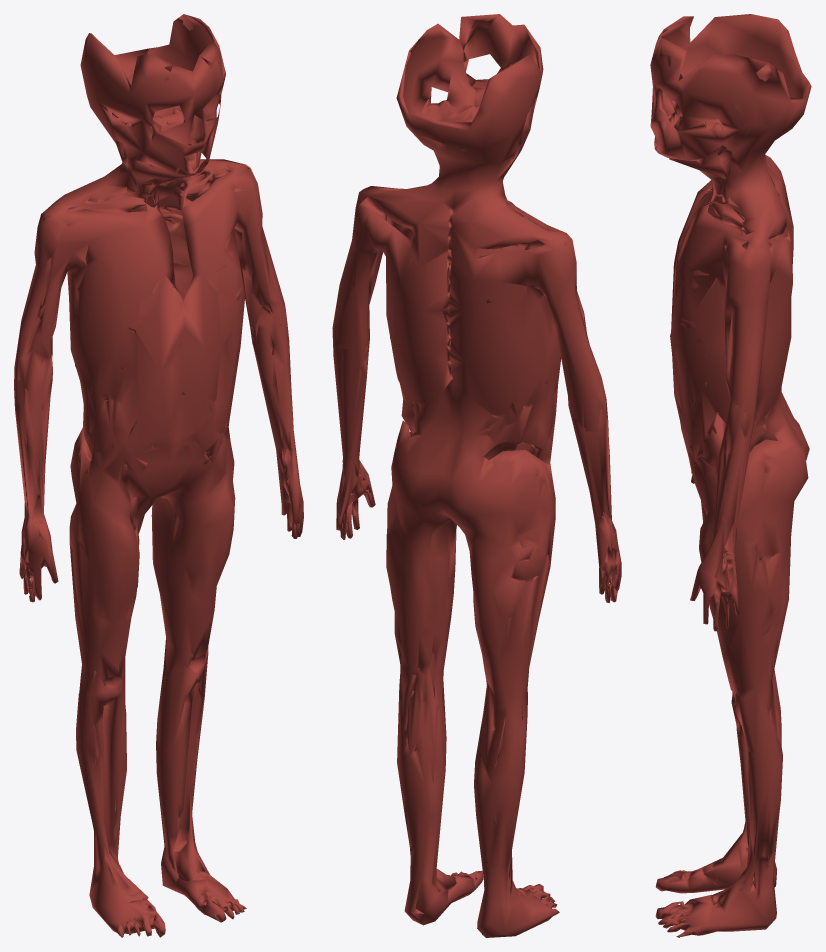
The model's file is pediatric_child_5y_female.muscular.LOD3.glb.
3 renders of one model, left to right at view 1: azimuth 30°, elevation 25°; view 2: azimuth 150°, elevation 25°; view 3: azimuth 270°, elevation 25°, orthographic.
Visible parts, largest first — view 1: PEDIATRIC.CHILD_5Y.FEMALE.MUSCULAR.MUSCLE; view 2: PEDIATRIC.CHILD_5Y.FEMALE.MUSCULAR.MUSCLE; view 3: PEDIATRIC.CHILD_5Y.FEMALE.MUSCULAR.MUSCLE.
Part boxes in pixels (x1,y1,x2,y2): PEDIATRIC.CHILD_5Y.FEMALE.MUSCULAR.MUSCLE: (14, 14, 303, 937); PEDIATRIC.CHILD_5Y.FEMALE.MUSCULAR.MUSCLE: (332, 14, 621, 937); PEDIATRIC.CHILD_5Y.FEMALE.MUSCULAR.MUSCLE: (650, 14, 811, 937).
Size of the model in its own units: 0.3467 by 1.06 by 0.1767.
